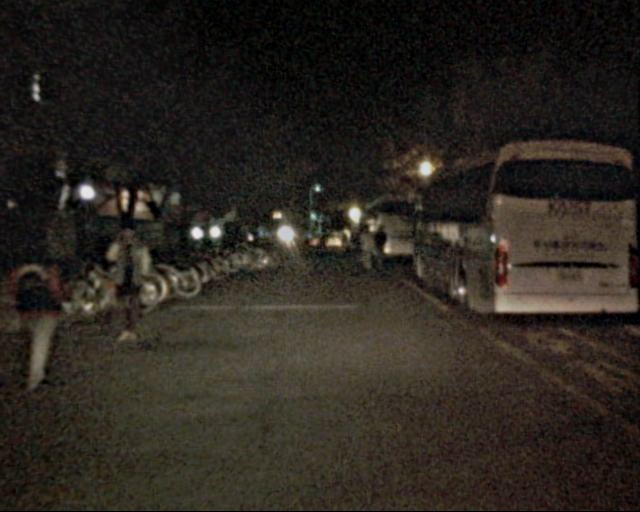person: (7, 224, 83, 395), (101, 219, 156, 344), (371, 226, 389, 271), (357, 227, 374, 269), (346, 227, 360, 262)
